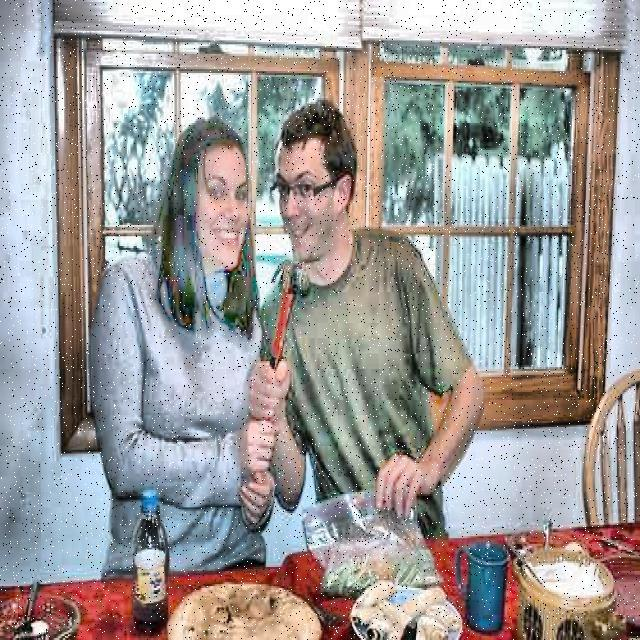hammer: (269, 258, 313, 441)
